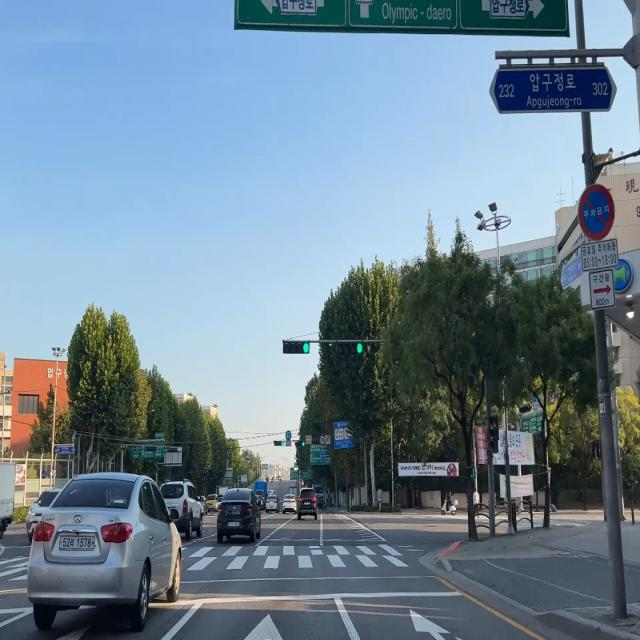Green Light: (303, 342, 309, 354), (357, 343, 362, 354)
